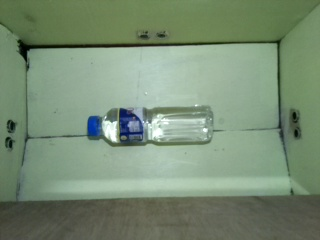bottle: (85, 104, 216, 148)
